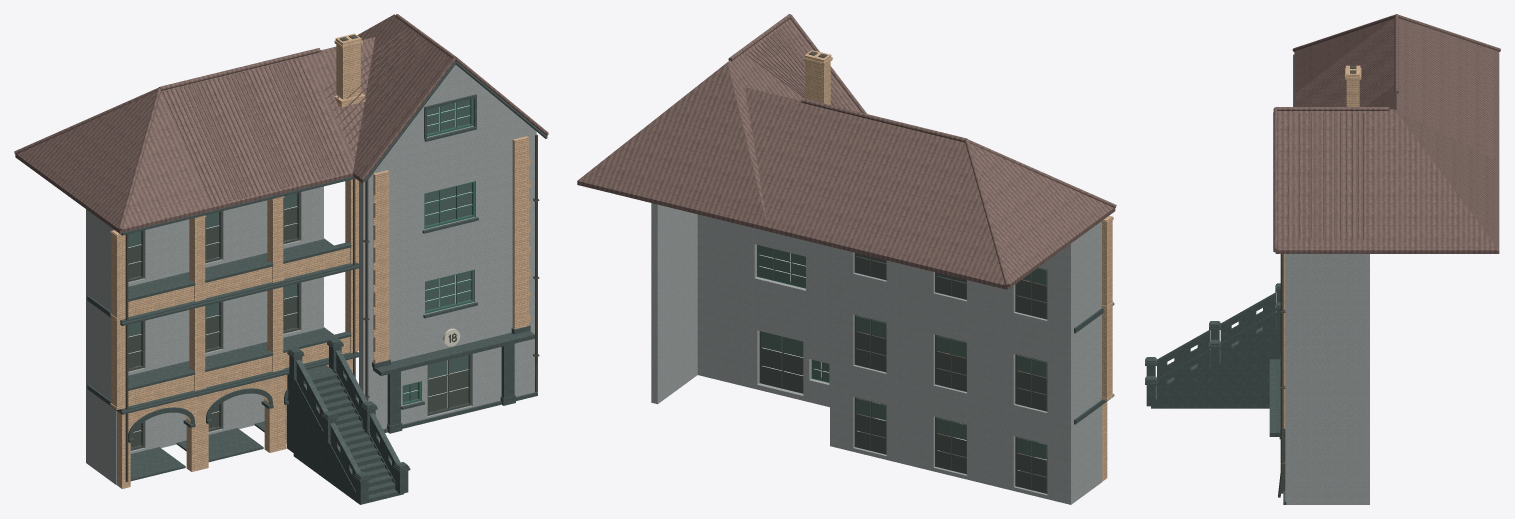
Rendered from full-source.glb.
The picture shows the model from 3 angles, left to right: view 1: azimuth 30°, elevation 25°; view 2: azimuth 150°, elevation 25°; view 3: azimuth 270°, elevation 25°; orthographic projection. The views are drawn at different scales.
Parts seen in each view (by area): view 1: 董竹君旧居18号楼南面券廊与题号山墙; view 2: 董竹君旧居18号楼南面券廊与题号山墙; view 3: 董竹君旧居18号楼南面券廊与题号山墙.
Boxes of the visible parts, <box> form: 董竹君旧居18号楼南面券廊与题号山墙: <box>14,14,548,504</box>; 董竹君旧居18号楼南面券廊与题号山墙: <box>577,14,1116,504</box>; 董竹君旧居18号楼南面券廊与题号山墙: <box>1145,14,1500,504</box>.
Size of the model in its own units: 17.89 by 15.03 by 13.39.
10 materials, 4 textured.
